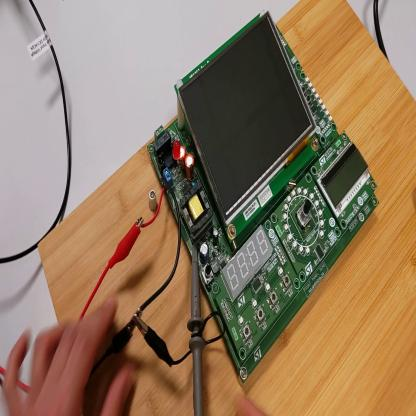hand: (2, 298, 131, 415), (241, 395, 267, 415)
low voltage board: (148, 11, 380, 382)
oscilloscope probe tip: (187, 240, 208, 416)
working area: (39, 1, 416, 414)
